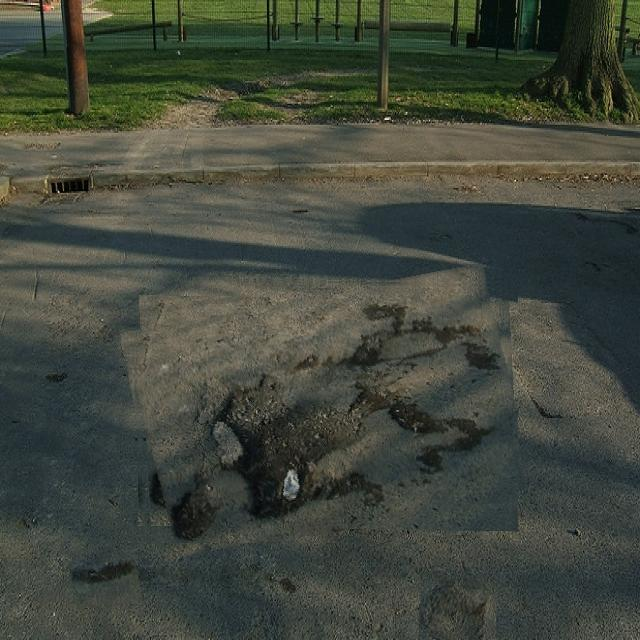Pothole: (129, 278, 518, 543), (419, 581, 497, 640), (70, 551, 140, 607)
